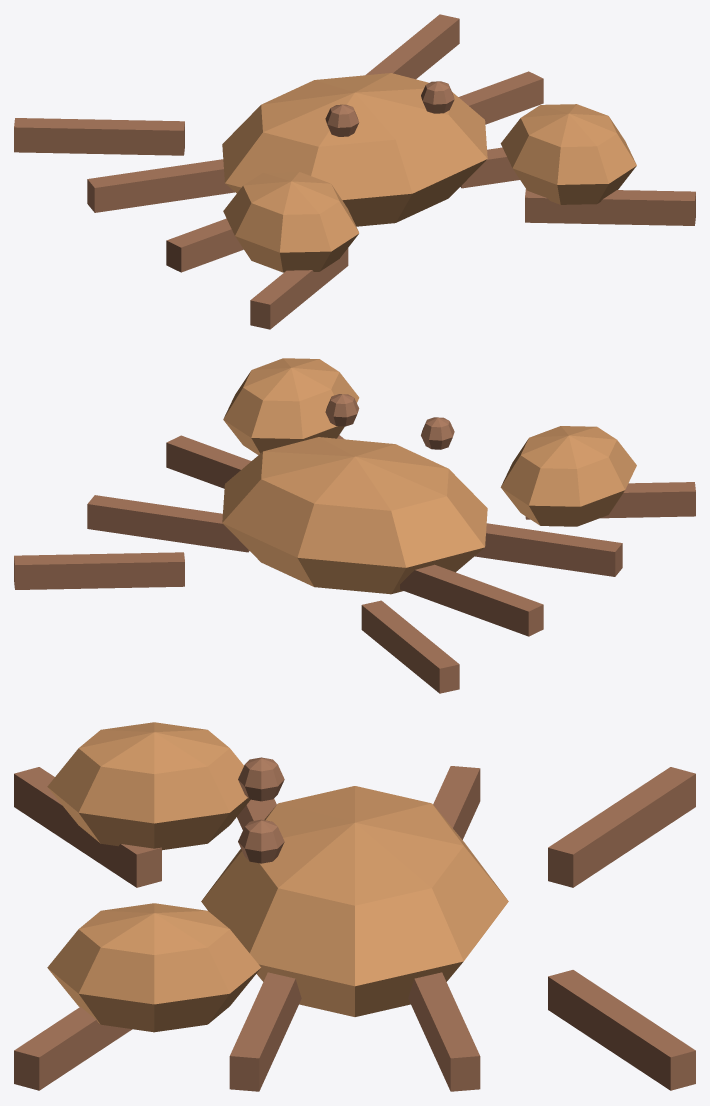
Rendered from crab.glb.
3 renders of one model, top to bottom at view 1: azimuth 30°, elevation 25°; view 2: azimuth 150°, elevation 25°; view 3: azimuth 270°, elevation 25°, orthographic. The views are drawn at different scales.
Visible parts, largest first — view 1: shell, claw.001, claw, Cube.003, Cube.004, Cube.002, Cube, Cube.007, Cube.006, Cube.001, Cube.005, eye.001 (+1 smaller); view 2: shell, claw, claw.001, Cube.007, Cube.006, Cube.002, Cube.001, Cube.003, Cube, Cube.005, eye, eye.001; view 3: shell, claw.001, claw, Cube.003, Cube.007, Cube, Cube.005, Cube.006, Cube.004, Cube.002, eye, eye.001 (+1 smaller).
Boxes of the visible parts, x1=… form: shell: x1=222, y1=73, x2=487, y2=226; claw.001: x1=500, y1=104, x2=636, y2=204; claw: x1=223, y1=172, x2=359, y2=272; Cube.003: x1=14, y1=118, x2=184, y2=155; Cube.004: x1=525, y1=189, x2=695, y2=225; Cube.002: x1=87, y1=159, x2=234, y2=212; Cube: x1=250, y1=248, x2=348, y2=329; Cube.007: x1=365, y1=14, x2=459, y2=79; Cube.006: x1=458, y1=71, x2=543, y2=124; Cube.001: x1=166, y1=218, x2=243, y2=272; Cube.005: x1=460, y1=147, x2=519, y2=188; eye.001: x1=421, y1=81, x2=454, y2=113; shell: x1=222, y1=437, x2=487, y2=594; claw: x1=500, y1=426, x2=636, y2=526; claw.001: x1=223, y1=358, x2=359, y2=454; Cube.007: x1=14, y1=552, x2=184, y2=589; Cube.006: x1=87, y1=495, x2=249, y2=552; Cube.002: x1=400, y1=564, x2=543, y2=636; Cube.001: x1=474, y1=523, x2=622, y2=576; Cube.003: x1=361, y1=600, x2=459, y2=693; Cube: x1=525, y1=482, x2=695, y2=519; Cube.005: x1=166, y1=435, x2=251, y2=488; eye: x1=421, y1=417, x2=454, y2=449; eye.001: x1=325, y1=394, x2=359, y2=426; shell: x1=201, y1=786, x2=508, y2=1016; claw.001: x1=47, y1=903, x2=260, y2=1032; claw: x1=47, y1=722, x2=250, y2=850; Cube.003: x1=548, y1=767, x2=695, y2=887; Cube.007: x1=548, y1=970, x2=695, y2=1090; Cube: x1=14, y1=767, x2=161, y2=887; Cube.005: x1=229, y1=972, x2=301, y2=1091; Cube.006: x1=408, y1=972, x2=480, y2=1091; Cube.004: x1=14, y1=1007, x2=131, y2=1090; Cube.002: x1=433, y1=766, x2=480, y2=839; eye: x1=238, y1=757, x2=284, y2=801; eye.001: x1=238, y1=819, x2=284, y2=863.
Size of the model in its own units: 1.03 by 0.315 by 1.02.
